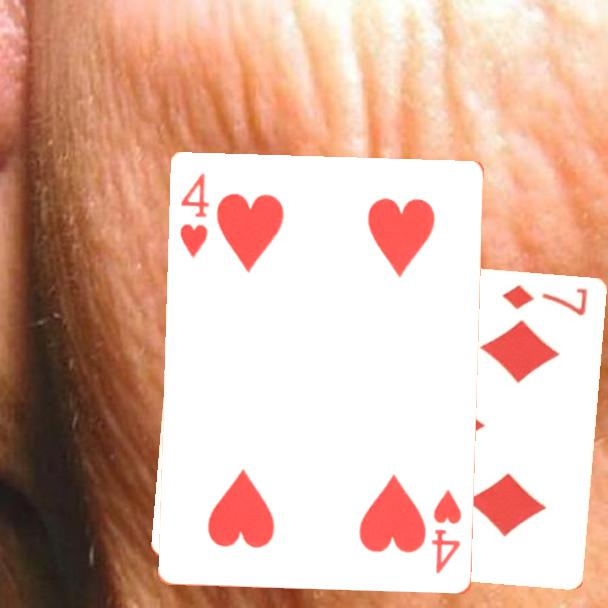d07: (500, 280, 591, 318)
h04: (428, 486, 465, 577), (177, 170, 213, 262)
